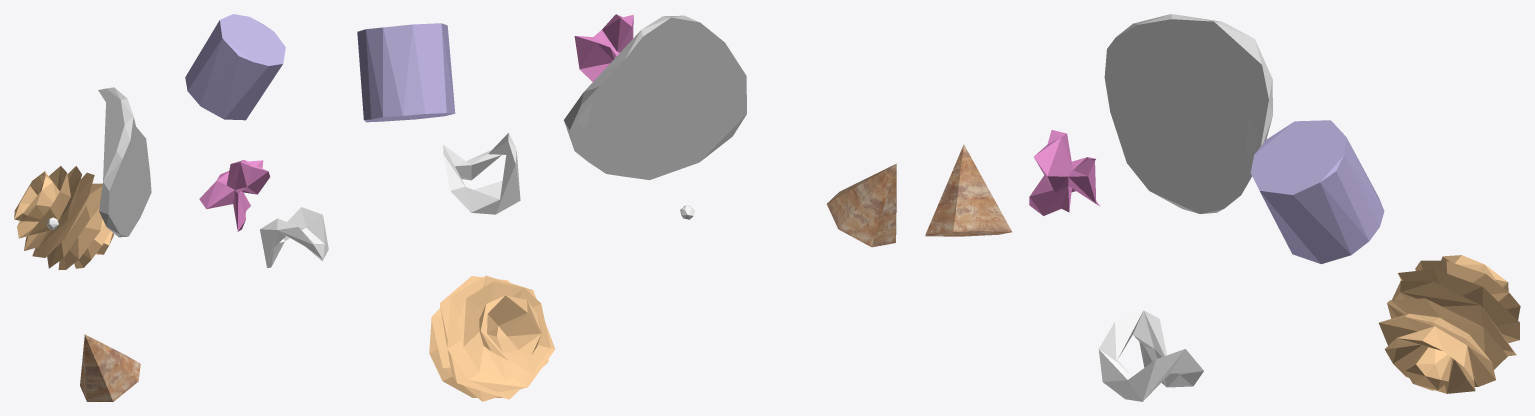
File: 404lowpoly.glb
3 views of the same model, side by side, from view 1: azimuth 30°, elevation 25°; view 2: azimuth 150°, elevation 25°; view 3: azimuth 270°, elevation 25° (orthographic). The views are drawn at different scales.
Parts seen in each view (by area): view 1: Cylinder, Icosphere.001, Cylinder.001, Cone, Icosphere, Torus; view 2: Cylinder.001, Icosphere.001, Cylinder, Cone, Torus, Icosphere; view 3: Cylinder.001, Icosphere.001, Cylinder, Torus, Cone, Icosphere.
Part boxes in pixels (x1,y1,x2,y2): Cylinder: (185, 14, 285, 120); Icosphere.001: (14, 166, 114, 269); Cylinder.001: (98, 87, 151, 237); Cone: (80, 334, 140, 401); Icosphere: (199, 160, 269, 231); Torus: (260, 207, 328, 267); Cylinder.001: (564, 15, 746, 180); Icosphere.001: (429, 275, 555, 401); Cylinder: (357, 23, 455, 122); Cone: (827, 163, 896, 247); Torus: (443, 133, 520, 214); Icosphere: (574, 14, 633, 81); Cylinder.001: (1104, 14, 1272, 213); Icosphere.001: (1379, 255, 1520, 393); Cylinder: (1250, 120, 1384, 264); Torus: (1098, 310, 1203, 401); Cone: (925, 144, 1011, 236); Icosphere: (1029, 130, 1100, 215).
Bounding box in the file's own units: 6.37 × 4.79 × 7.5.
7 materials, 1 textured.
